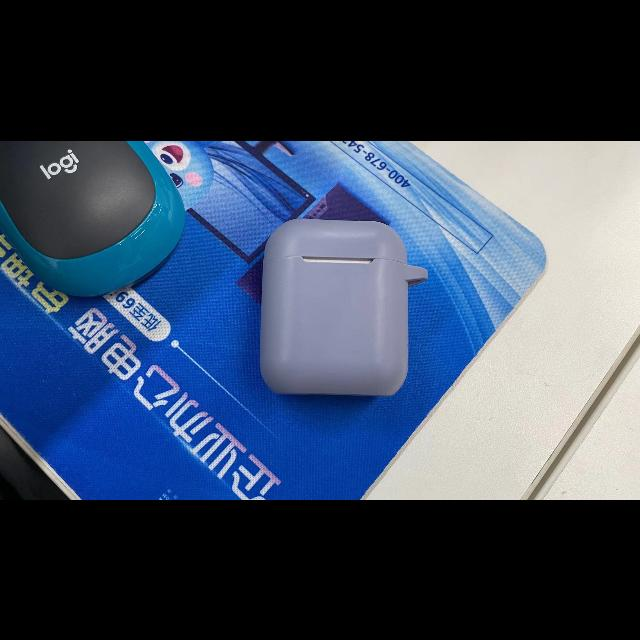airpods: (260, 218, 429, 395)
